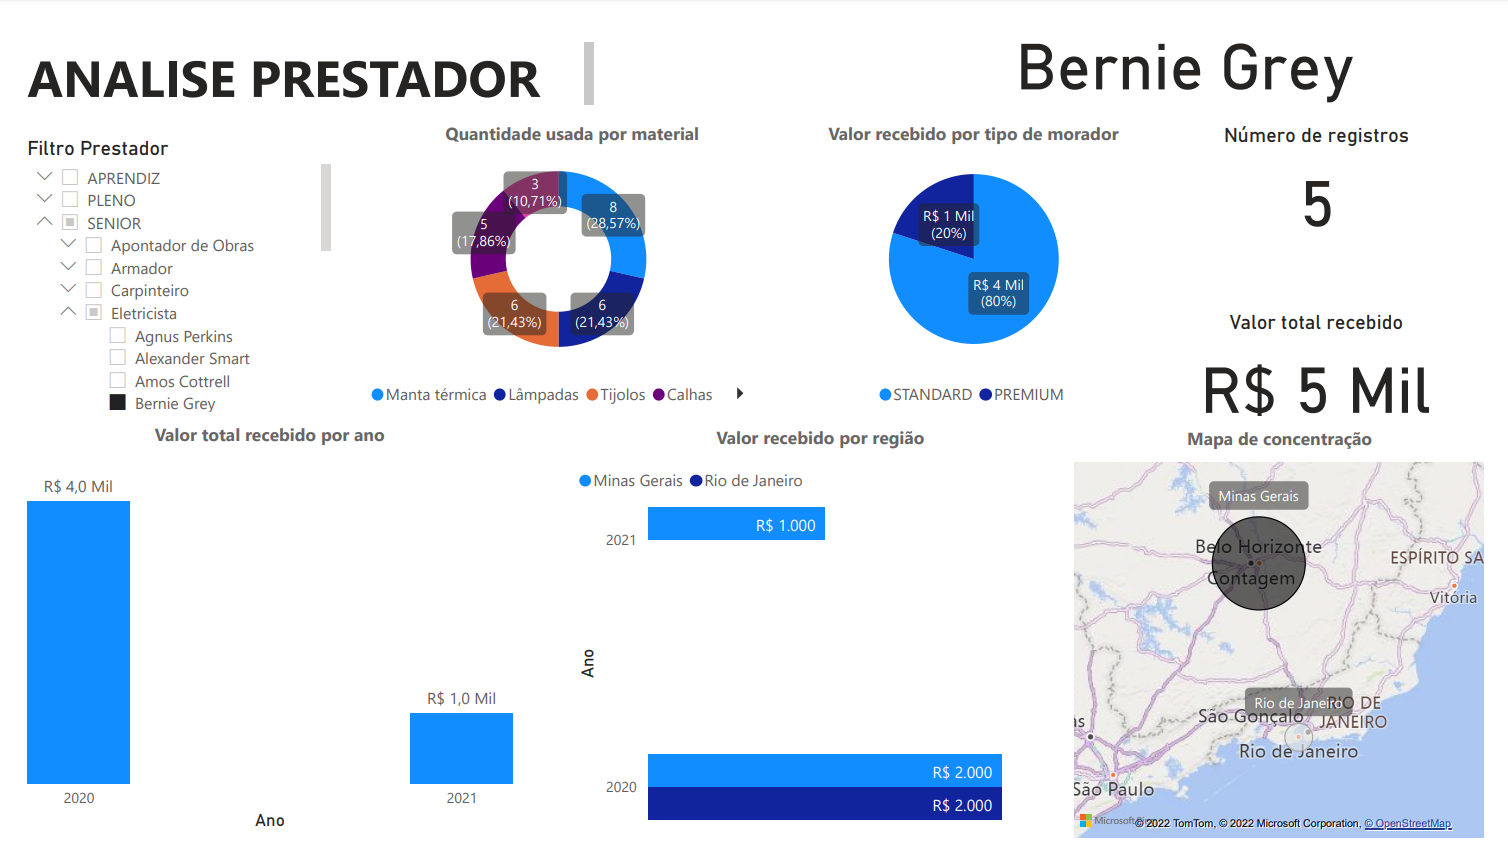

This screenshot's page, from the dashboard's own definition file:
{"tool":"powerbi","page":{"name":"Analise Prestador","canvas":[1280,720],"ordinal":1},"visuals":[{"type":"slicer","title":"Filtro Prestador","fields":{"Values":["DIM_PRESTADOR.NM_TIPO","DIM_PRESTADOR.NM_PROFISSAO","DIM_PRESTADOR.NM_PRESTADOR"]},"box":[23.7,112.7,265.7,236.5],"z":0},{"type":"clusteredColumnChart","fields":{"Category":["DIM_DATA.DATA_POR_EXTENSO.Variation.Hierarquia de datas.Ano","DIM_DATA.DATA_POR_EXTENSO.Variation.Hierarquia de datas.Trimestre","DIM_DATA.DATA_POR_EXTENSO.Variation.Hierarquia de datas.Mês","DIM_DATA.DATA_POR_EXTENSO.Variation.Hierarquia de datas.Dia"],"Y":["Sum(FATO_DESPESAS.PR_DIARIA)"]},"box":[23.7,382.6,418.8,318.6],"z":1000},{"type":"clusteredBarChart","fields":{"Category":["DIM_DATA.DATA_POR_EXTENSO.Variation.Hierarquia de datas.Ano","DIM_DATA.DATA_POR_EXTENSO.Variation.Hierarquia de datas.Trimestre","DIM_DATA.DATA_POR_EXTENSO.Variation.Hierarquia de datas.Mês","DIM_DATA.DATA_POR_EXTENSO.Variation.Hierarquia de datas.Dia"],"Series":["DIM_RESIDENCIA.NM_ESTADO"],"Y":["Sum(FATO_DESPESAS.PR_DIARIA)"]},"box":[488.3,382.6,417.4,318.6],"z":2000},{"type":"map","fields":{"Category":["DIM_RESIDENCIA.NM_ESTADO"],"Size":["CountNonNull(FATO_DESPESAS.SK_RESIDENCIA)"]},"box":[905.7,382.6,354.8,325.6],"z":3000},{"type":"card","title":"Número de registros","fields":{"Values":["CountNonNull(FATO_DESPESAS.SK_MORADOR)"]},"box":[1025.4,101.6,180.9,103],"z":4000},{"type":"donutChart","fields":{"Category":["DIM_MATERIAL.NM_MATERIAL"],"Y":["Sum(FATO_DESPESAS.QT_MATERIAL)"]},"box":[313,112.7,327,236.5],"z":5000},{"type":"pieChart","fields":{"Y":["Sum(FATO_DESPESAS.PR_DIARIA)"],"Category":["DIM_MORADOR.NM_TIPO"]},"box":[685.9,112.7,281,236.5],"z":6000},{"type":"card","title":"Valor total recebido","fields":{"Values":["Sum(FATO_DESPESAS.PR_DIARIA)"]},"box":[967,258.8,296.3,103],"z":7000},{"type":"textbox","box":[23.7,29.2,487,65.4],"z":8000},{"type":"card","fields":{"Values":["Min(DIM_PRESTADOR.NM_PRESTADOR)"]},"box":[759.7,0,489.7,94.6],"z":9000},{"type":"textbox","box":[338.1,94.6,300.5,40.3],"z":10000},{"type":"textbox","box":[83.5,349.2,300.5,40.3],"z":11000},{"type":"textbox","box":[546.8,350.6,300.5,40.3],"z":12000},{"type":"textbox","box":[933.6,352,300.5,40.3],"z":13000},{"type":"textbox","box":[676.2,94.6,300.5,40.3],"z":14000}]}

Visuals, with their boxes in screenshot pixels (x1, y1, x2, y2), scaled from the page's 1280x720 canvas onto the 1508x851 screenshot:
"Filtro Prestador" slicer: locate(28, 133, 341, 413)
clusteredColumnChart - DIM_DATA.DATA_POR_EXTENSO.Variation.Hierarquia de datas.Ano x DIM_DATA.DATA_POR_EXTENSO.Variation.Hierarquia de datas.Trimestre: locate(28, 452, 521, 829)
clusteredBarChart - DIM_DATA.DATA_POR_EXTENSO.Variation.Hierarquia de datas.Ano x DIM_DATA.DATA_POR_EXTENSO.Variation.Hierarquia de datas.Trimestre: locate(575, 452, 1067, 829)
map - DIM_RESIDENCIA.NM_ESTADO x CountNonNull(FATO_DESPESAS.SK_RESIDENCIA): locate(1067, 452, 1485, 837)
"Número de registros" card: locate(1208, 120, 1421, 242)
donutChart - DIM_MATERIAL.NM_MATERIAL x Sum(FATO_DESPESAS.QT_MATERIAL): locate(369, 133, 754, 413)
pieChart - Sum(FATO_DESPESAS.PR_DIARIA) x DIM_MORADOR.NM_TIPO: locate(808, 133, 1139, 413)
"Valor total recebido" card: locate(1139, 306, 1488, 428)
textbox: locate(28, 35, 602, 112)
card - Min(DIM_PRESTADOR.NM_PRESTADOR): locate(895, 0, 1472, 112)
textbox: locate(398, 112, 752, 159)
textbox: locate(98, 413, 452, 460)
textbox: locate(644, 414, 998, 462)
textbox: locate(1100, 416, 1454, 464)
textbox: locate(797, 112, 1151, 159)
